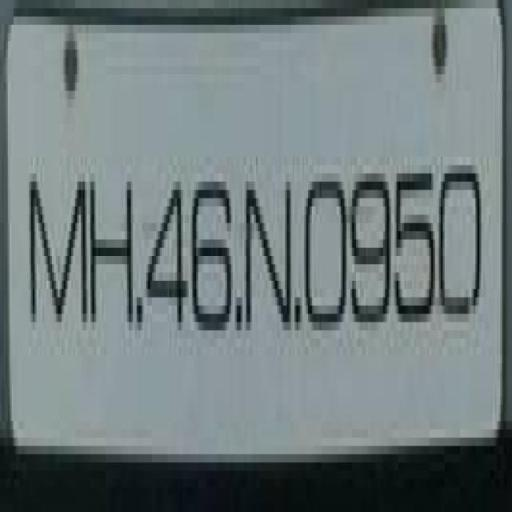number plate: (15, 0, 512, 504)
